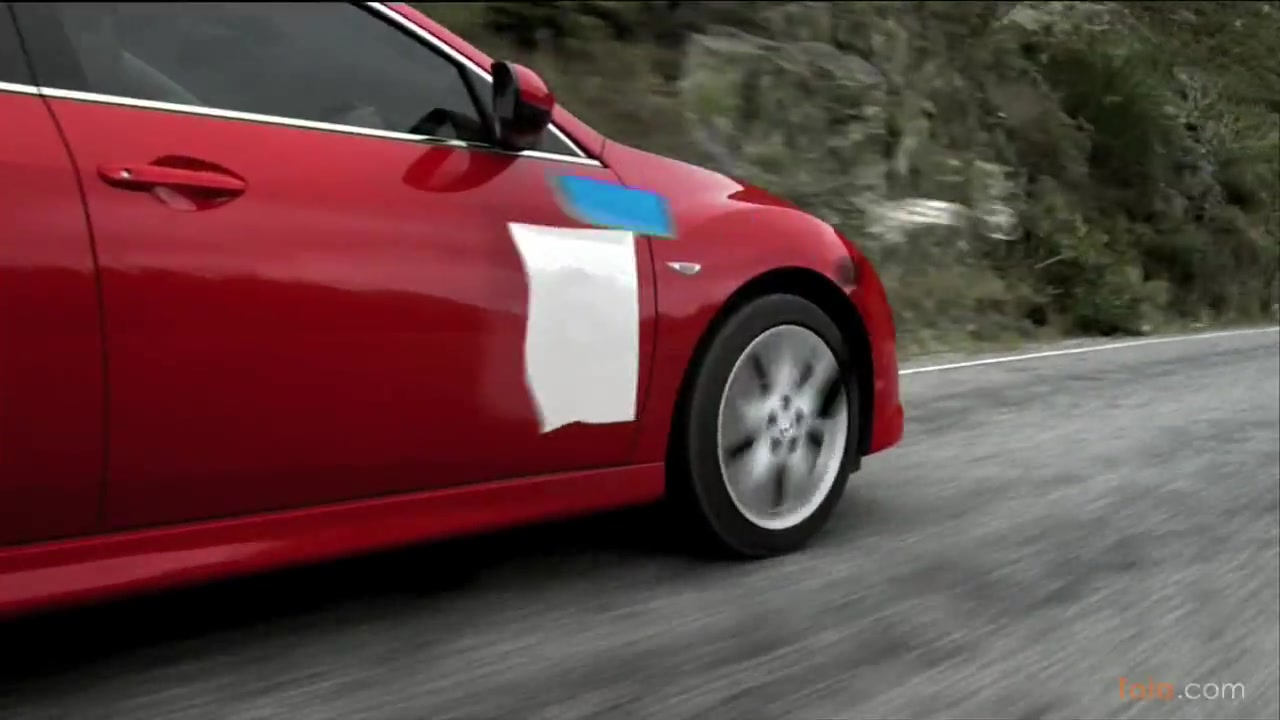car: (3, 1, 906, 614)
